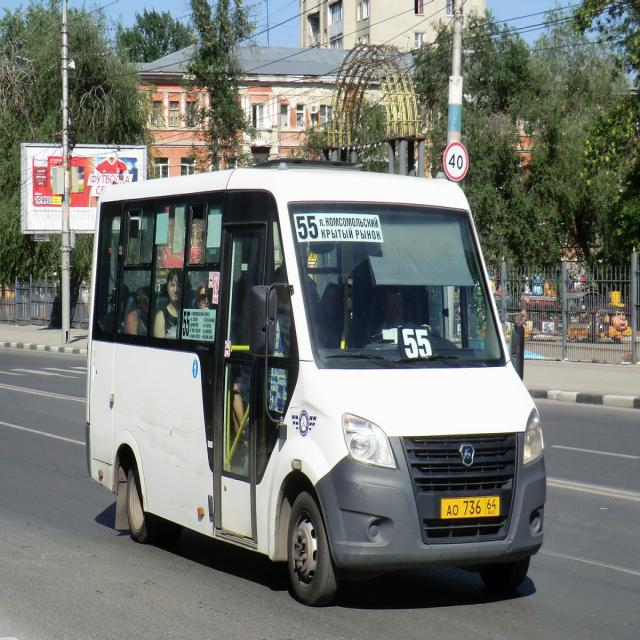number-of-bus: (296, 215, 321, 241)
